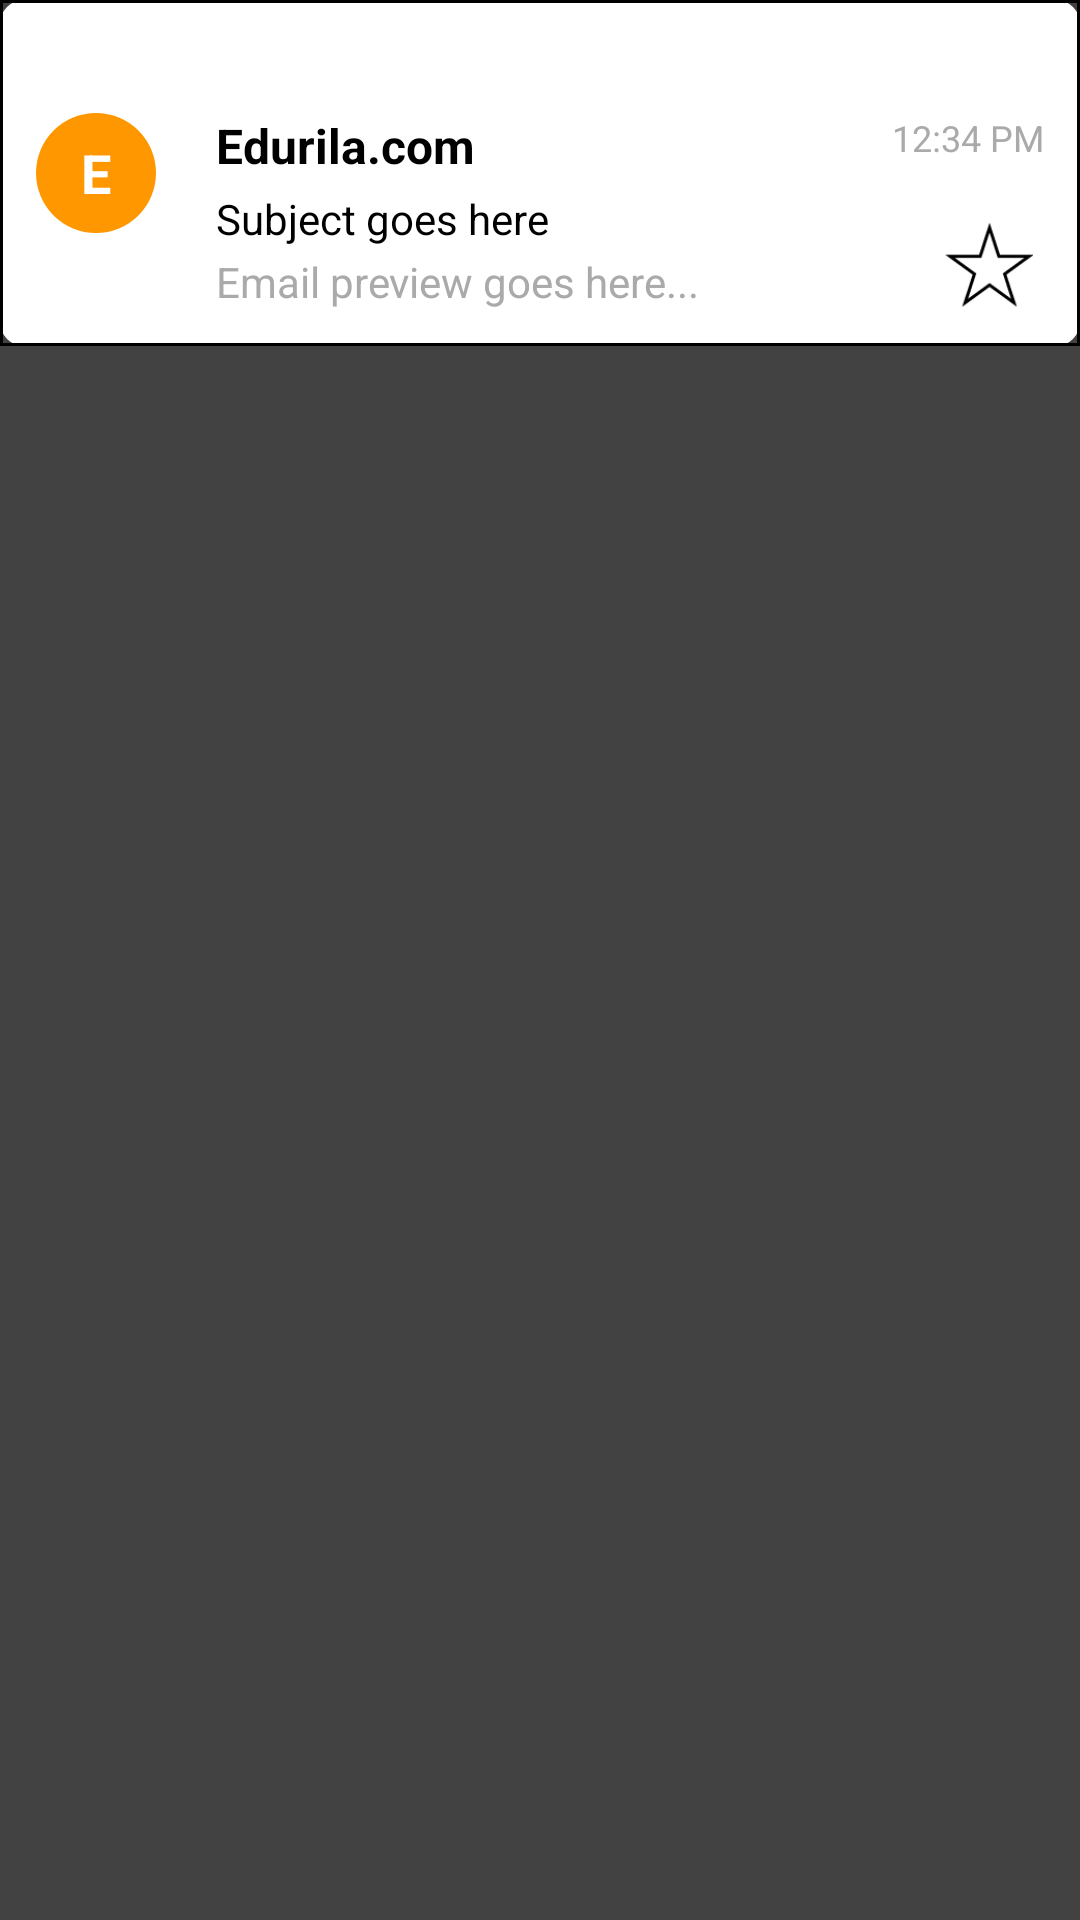

Named icons in this screenshot (1080px×1920px) and their centers, [x,y]:
star unsellected: [989,265]
